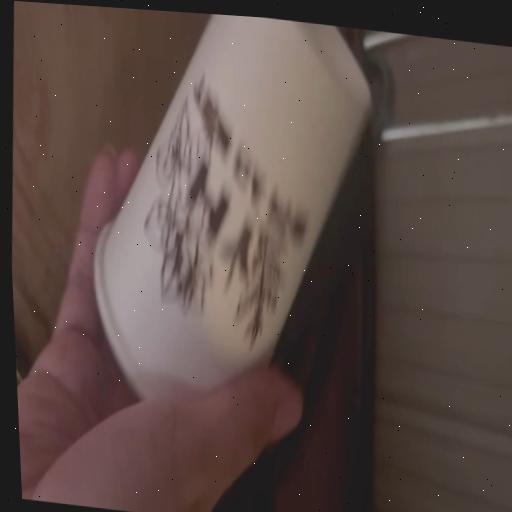Ly_giay: (93, 14, 369, 399)
